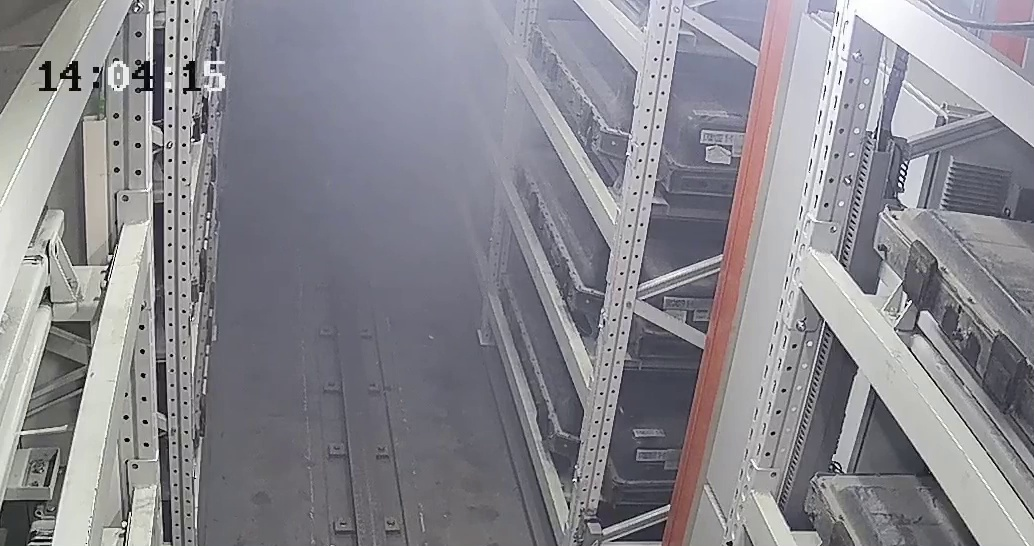smoke: (320, 14, 496, 262)
